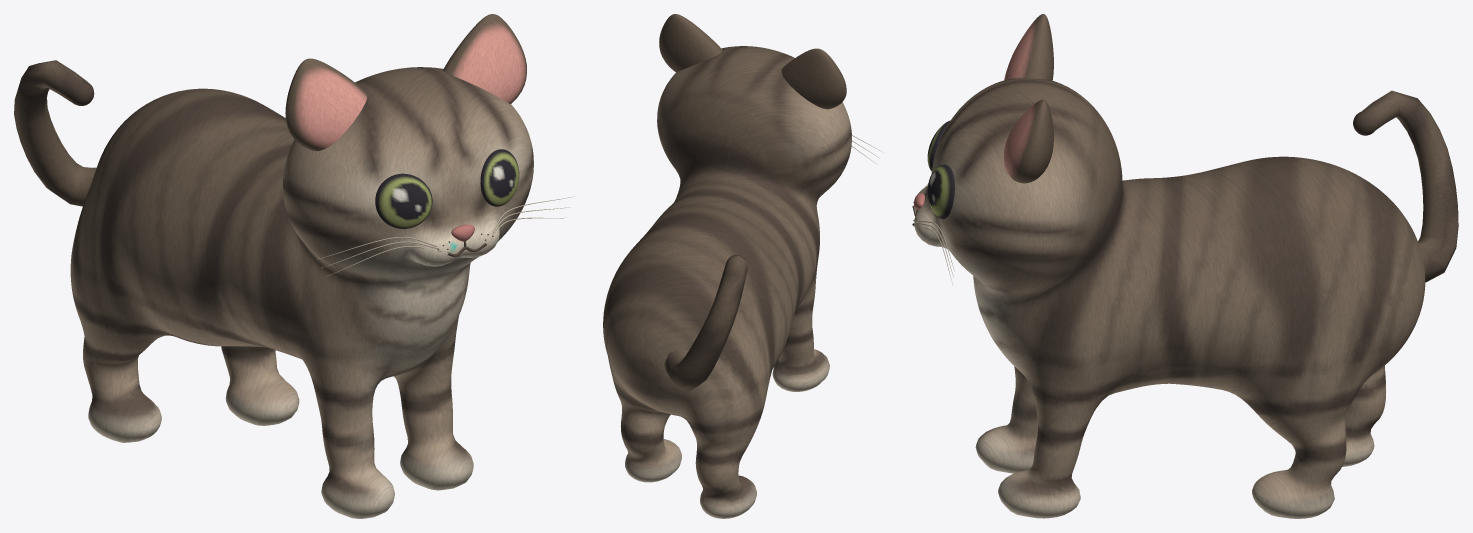
Rendered from tabby.glb.
The picture shows the model from 3 angles, left to right: view 1: azimuth 30°, elevation 25°; view 2: azimuth 150°, elevation 25°; view 3: azimuth 270°, elevation 25°; orthographic projection. The views are drawn at different scales.
Visible parts, largest first — view 1: Tabby; view 2: Tabby; view 3: Tabby.
Part boxes in pixels (bbox=[...]): Tabby: bbox=[14, 14, 574, 518]; Tabby: bbox=[603, 14, 883, 518]; Tabby: bbox=[912, 14, 1458, 518].
Bounding box in the file's own units: 0.5633 × 0.8224 × 0.8784.
Materials: 1 (1 with a texture image).
